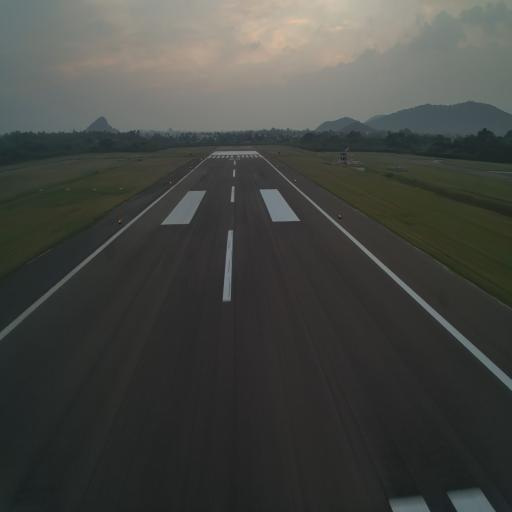on: (338, 212, 342, 221), (118, 219, 122, 225)
